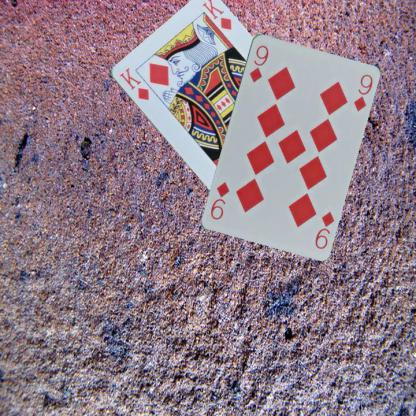9d: (246, 42, 270, 84), (312, 209, 336, 250)
Kd: (116, 64, 150, 102)
